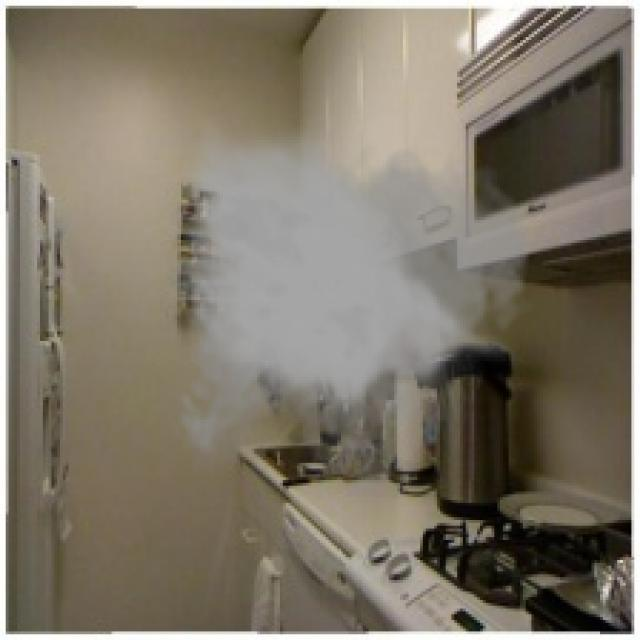Smoke: (166, 117, 534, 497)
